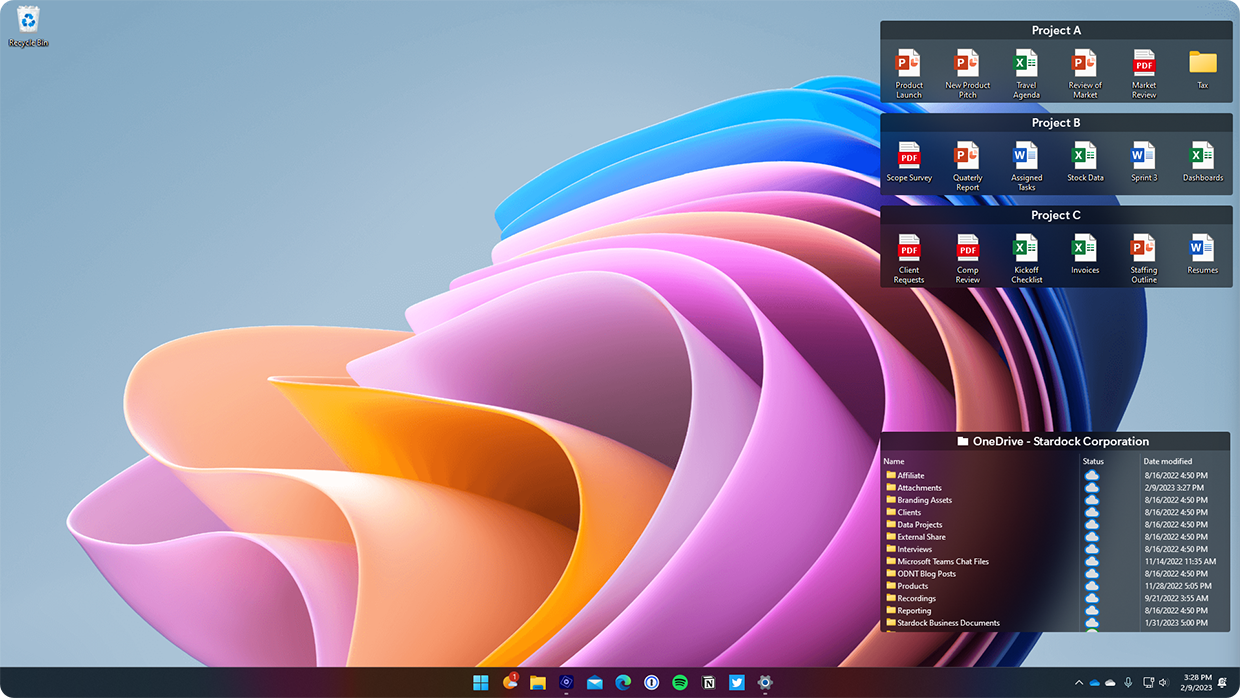start_bar: (467, 669, 497, 696)
